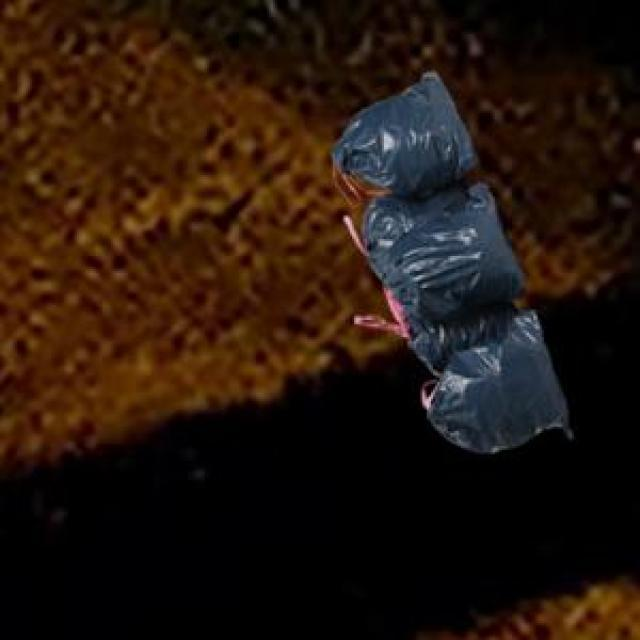Vinyl: (426, 304, 578, 458), (355, 180, 529, 308), (335, 78, 481, 194)
